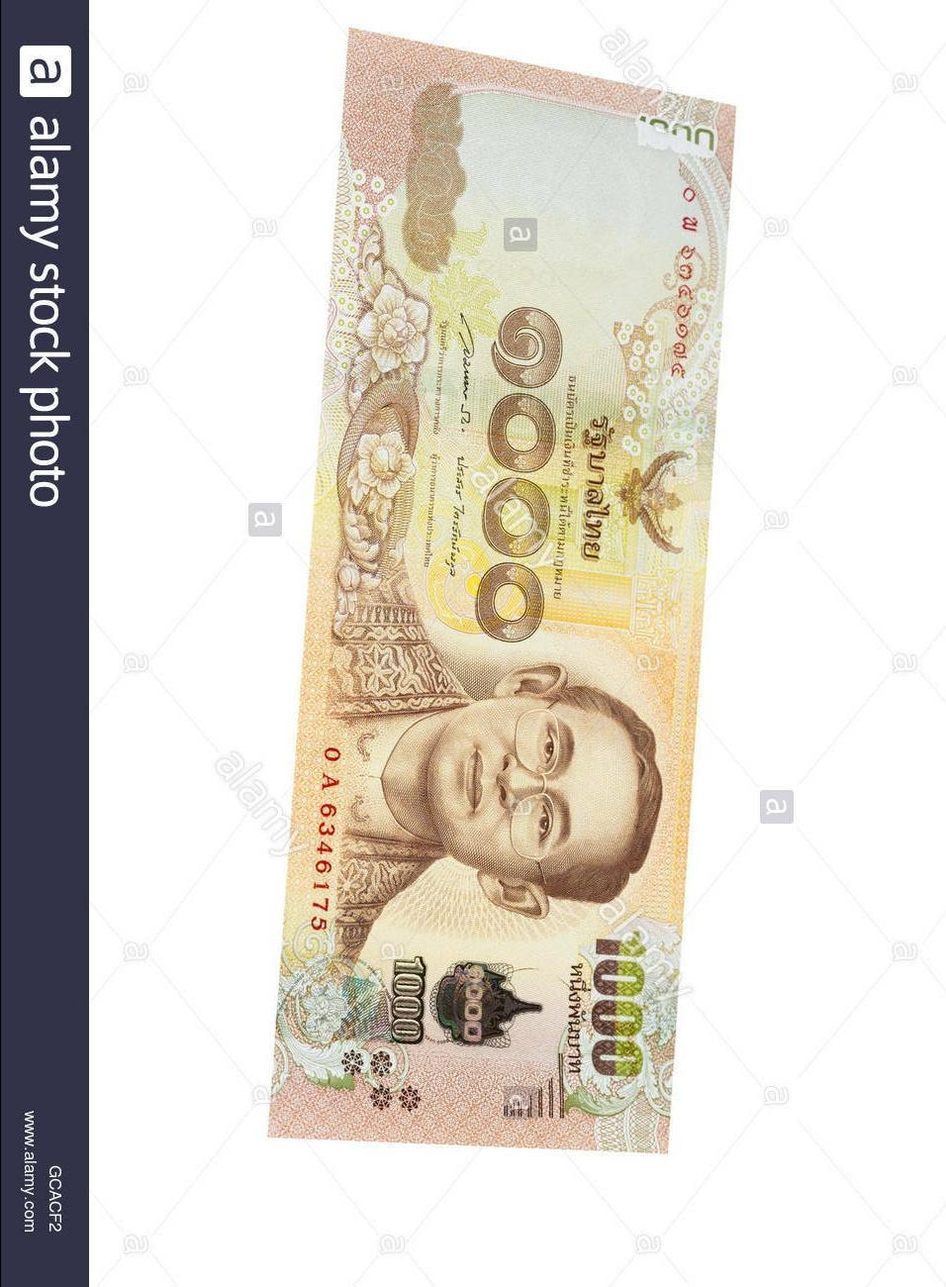1000BahtTai: (276, 28, 748, 1118)
